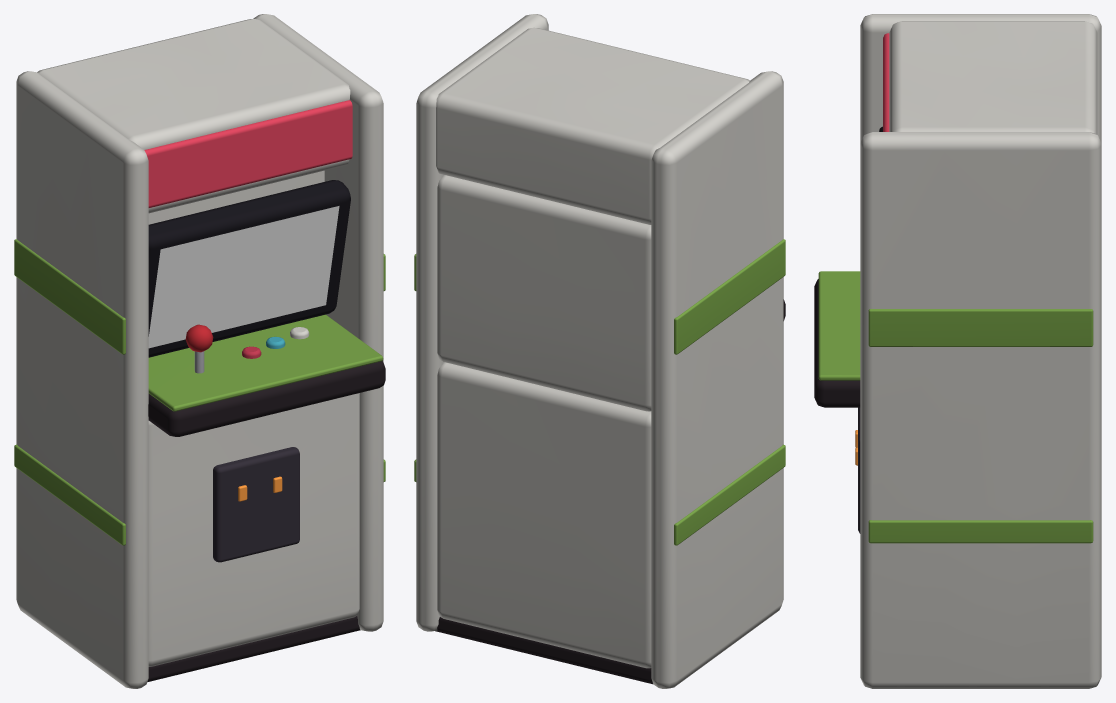
The model's file is furn_cab_capsules.glb.
3 renders of one model, left to right at view 1: azimuth 30°, elevation 25°; view 2: azimuth 150°, elevation 25°; view 3: azimuth 270°, elevation 25°, orthographic. The views are drawn at different scales.
Visible parts, largest first — view 1: furn_cab_capsules_main, furn_cab_capsules_screen, furn_cab_capsules_glow; view 2: furn_cab_capsules_main; view 3: furn_cab_capsules_main, furn_cab_capsules_glow.
Part boxes in pixels (x1,y1,x2,y2): furn_cab_capsules_main: [14, 14, 385, 688]; furn_cab_capsules_screen: [148, 206, 339, 348]; furn_cab_capsules_glow: [144, 100, 352, 501]; furn_cab_capsules_main: [414, 14, 785, 688]; furn_cab_capsules_main: [814, 14, 1101, 688]; furn_cab_capsules_glow: [855, 33, 889, 465].
Bounding box in the file's own units: 0.752 × 1.47 × 0.69.
